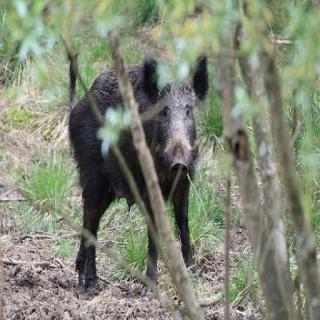Pig: (42, 54, 232, 273)
